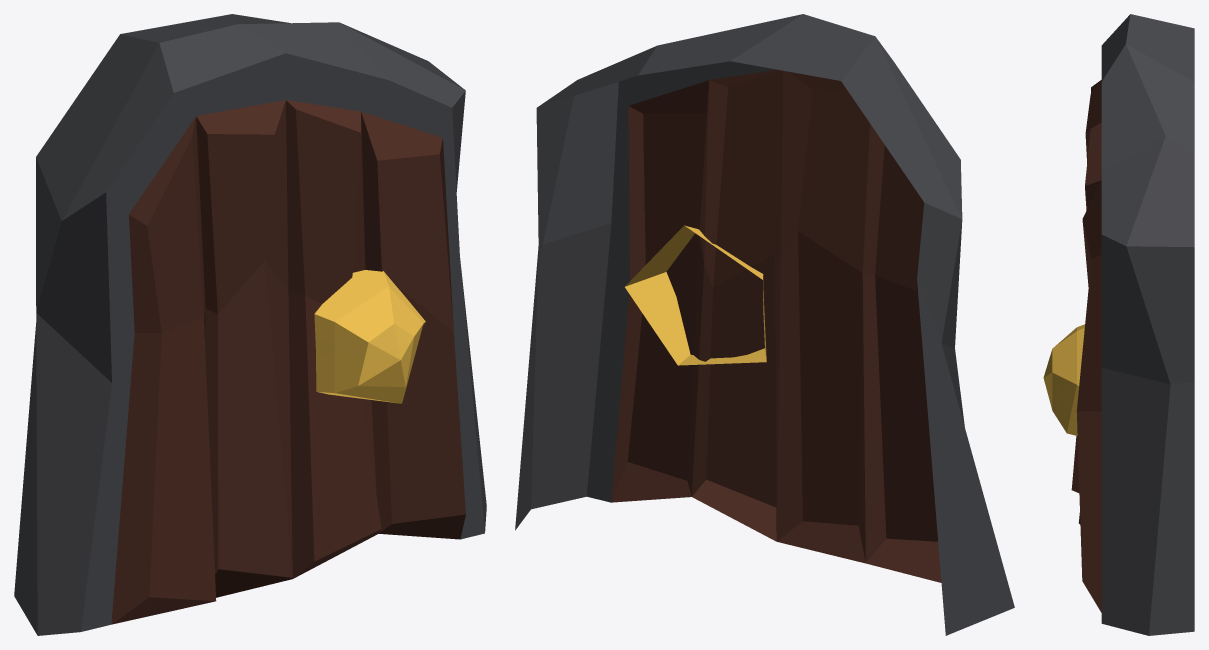
File: SM_L_G_Home_Door.fbx
The picture shows the model from 3 angles, left to right: view 1: azimuth 30°, elevation 25°; view 2: azimuth 150°, elevation 25°; view 3: azimuth 270°, elevation 25°; orthographic projection. The views are drawn at different scales.
Visible parts, largest first — view 1: SM_L_G_Home_Door; view 2: SM_L_G_Home_Door; view 3: SM_L_G_Home_Door.
Part boxes in pixels (x1,y1,x2,y2): SM_L_G_Home_Door: (14,14,486,635); SM_L_G_Home_Door: (515,14,1014,635); SM_L_G_Home_Door: (1043,14,1194,635).
Bounding box in the file's own units: 1.25 × 1.42 × 0.4034.
